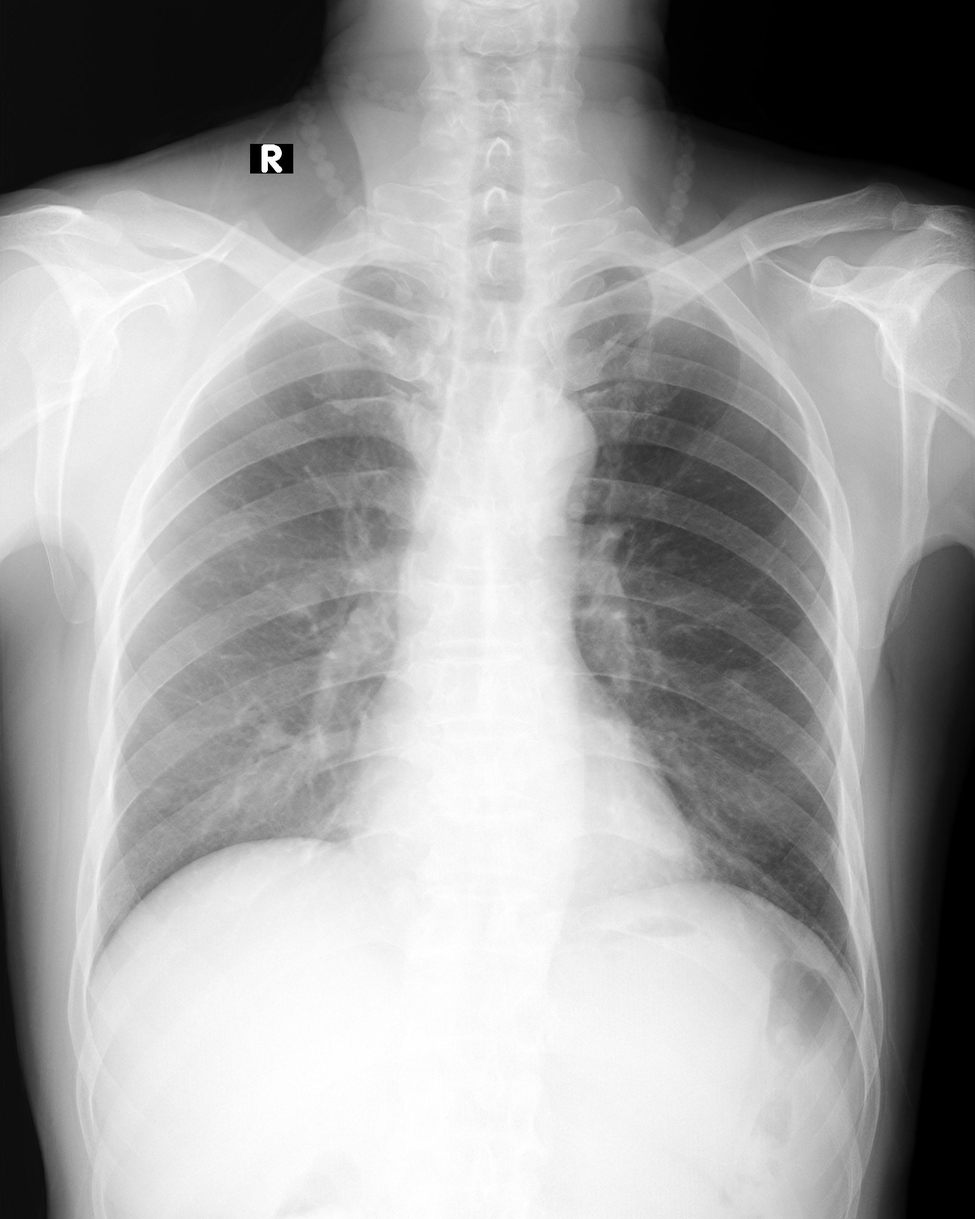Aortic enlargement: (485, 380, 601, 496)
Pleural thickening: (330, 247, 424, 278)
